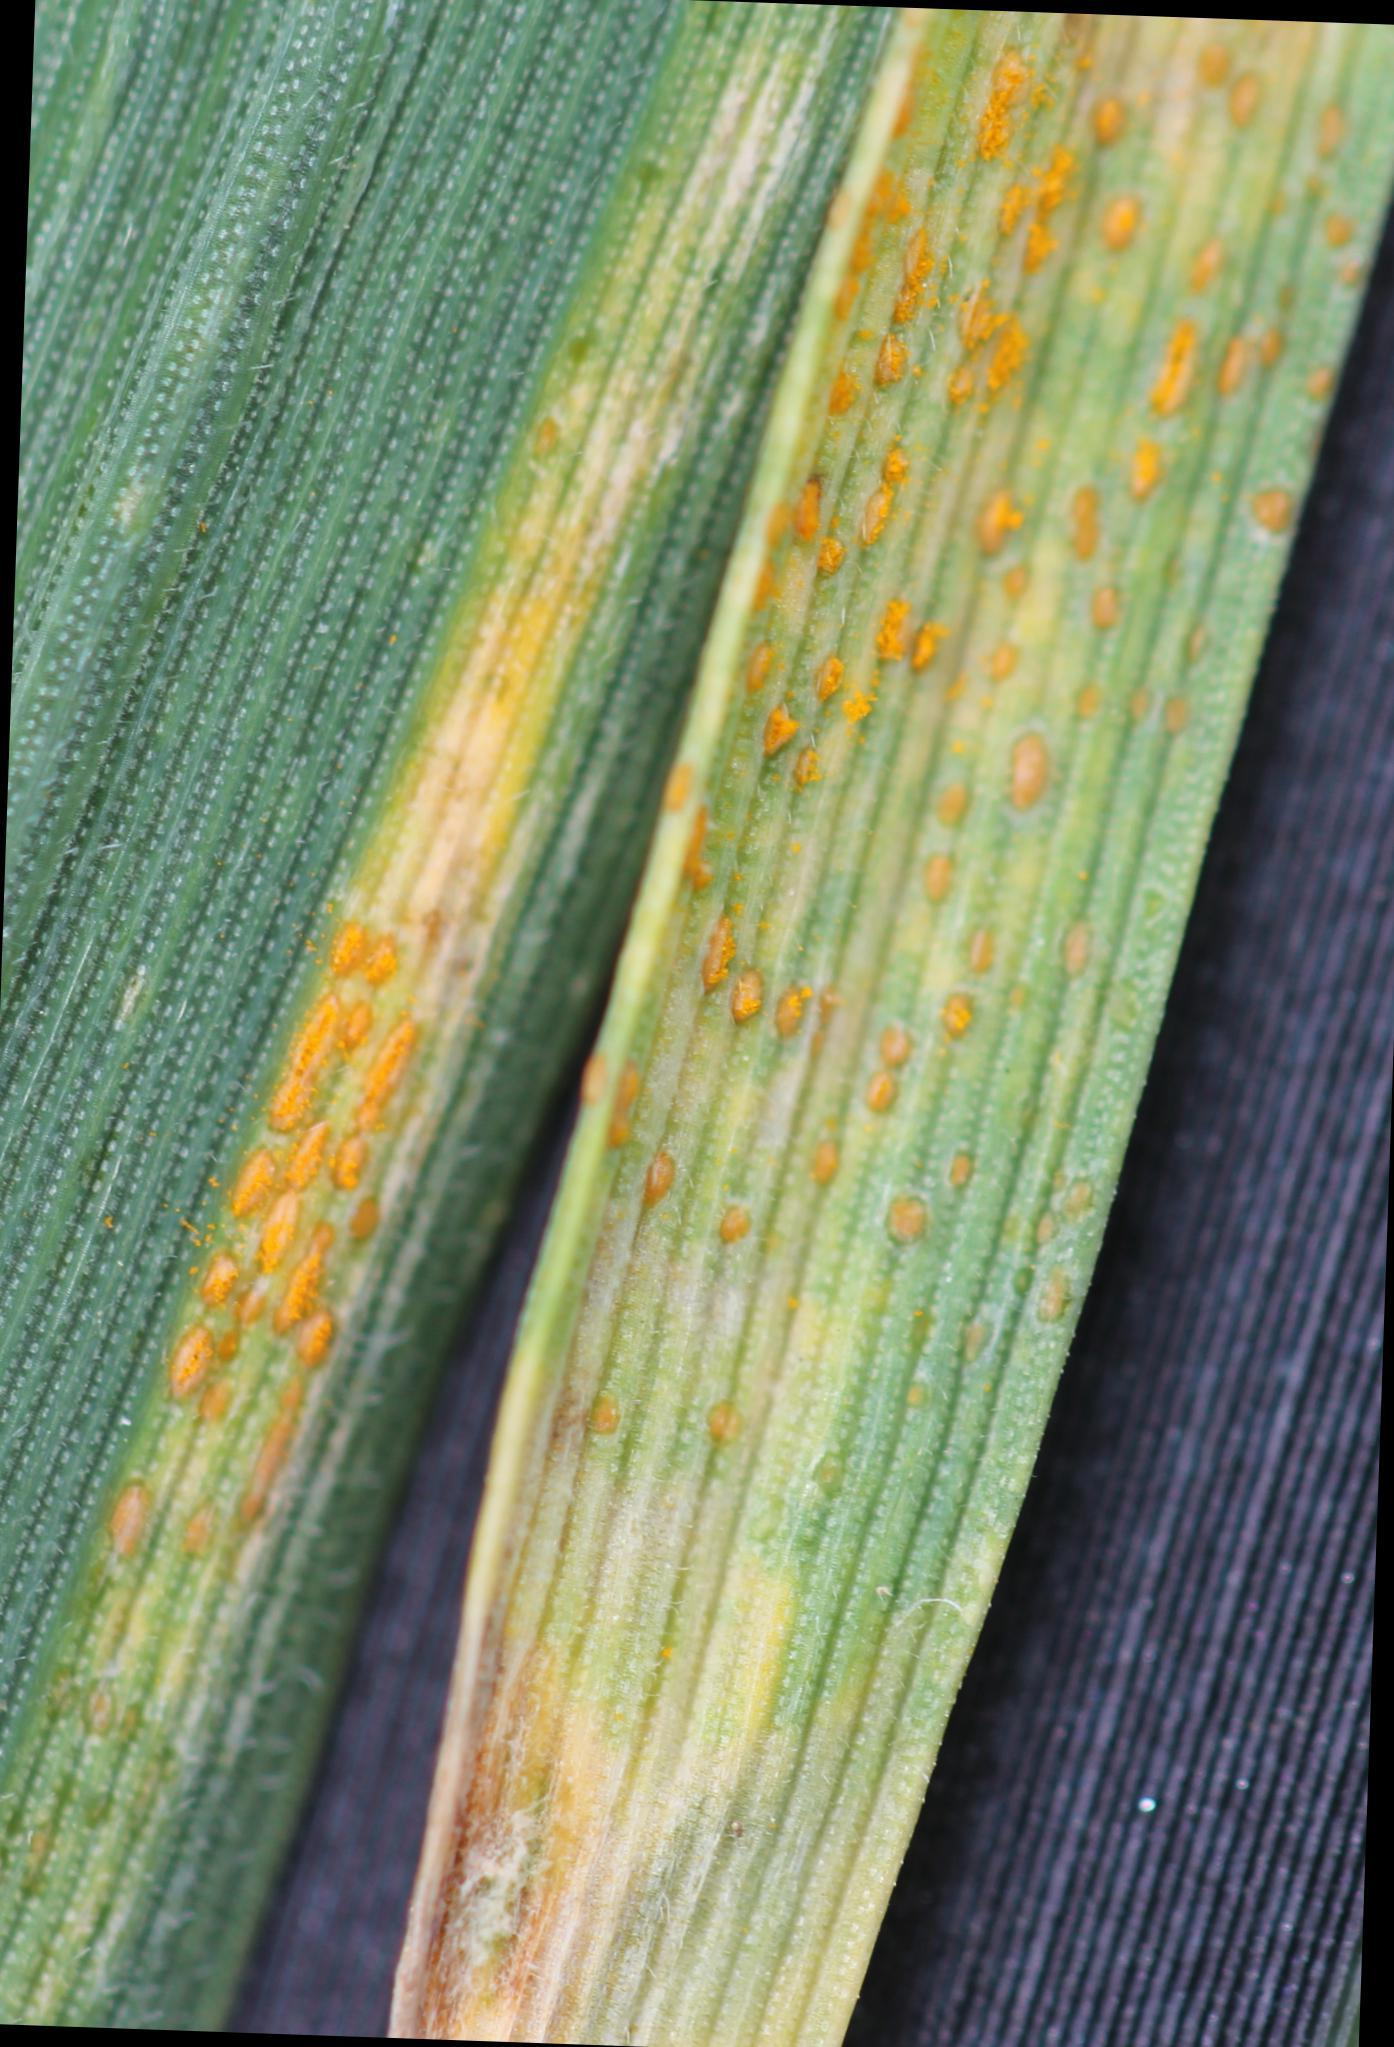Wheat: (896, 34, 1109, 1000), (709, 583, 857, 1496), (1144, 39, 1340, 471), (569, 1100, 672, 1758), (294, 809, 459, 1139), (109, 1139, 243, 1512), (899, 1089, 1108, 1313), (289, 1163, 425, 1356), (773, 289, 857, 479)
